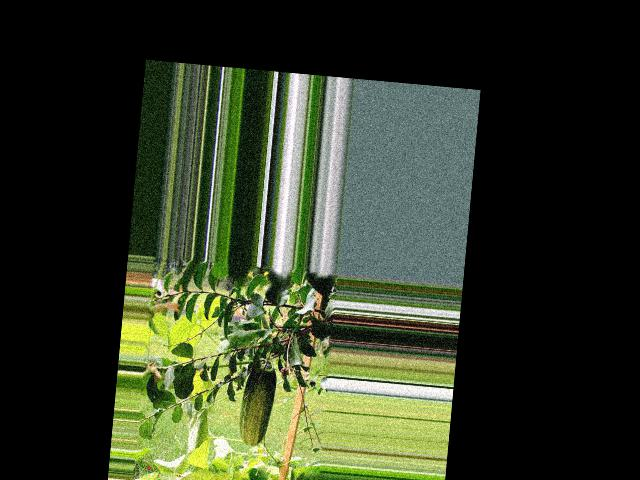cucumber: (238, 357, 279, 448)
